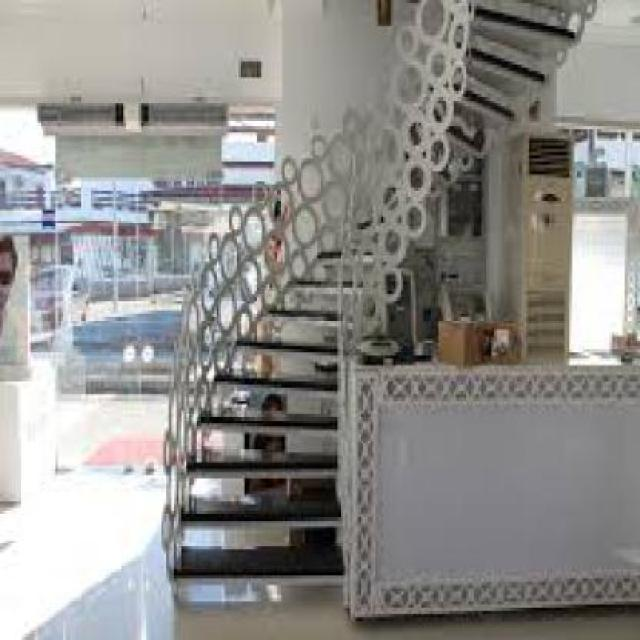stair: (155, 50, 390, 625)
